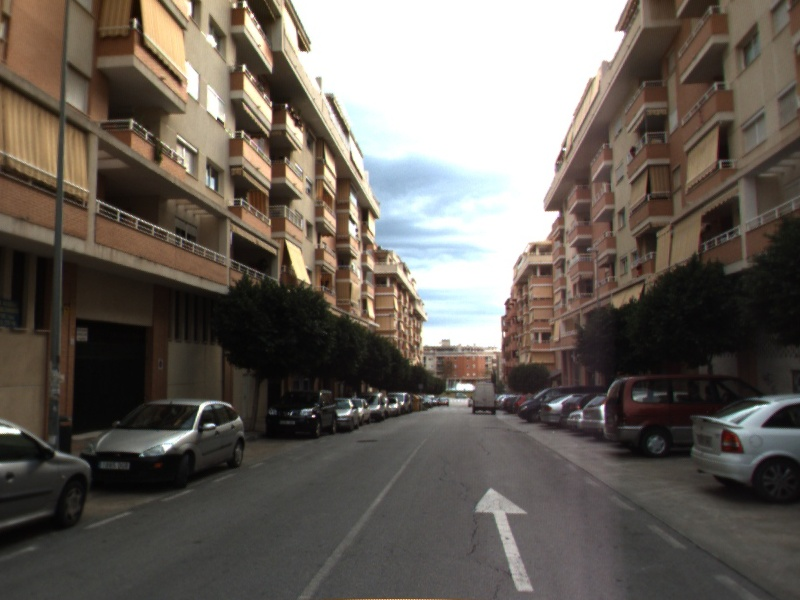STRAIGHT: (469, 485, 535, 593)
